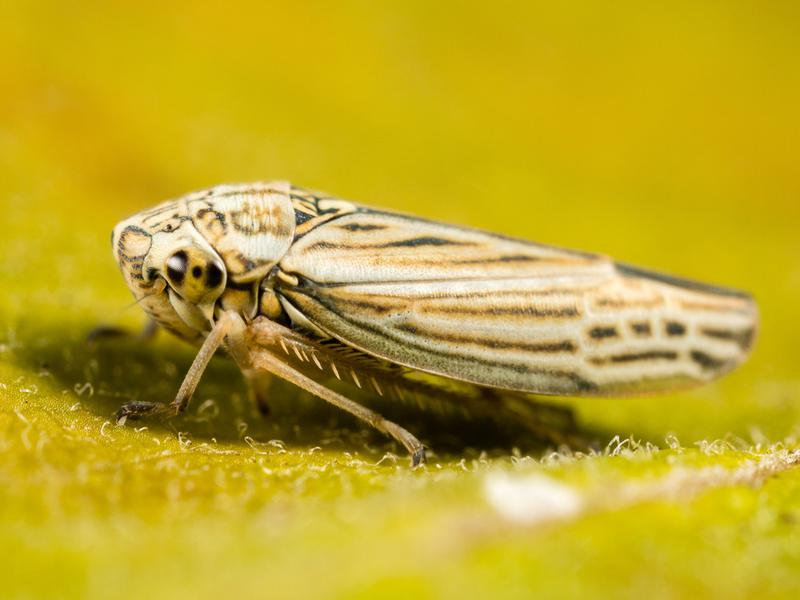Brown_plant_leafhopper: (94, 173, 767, 464)
